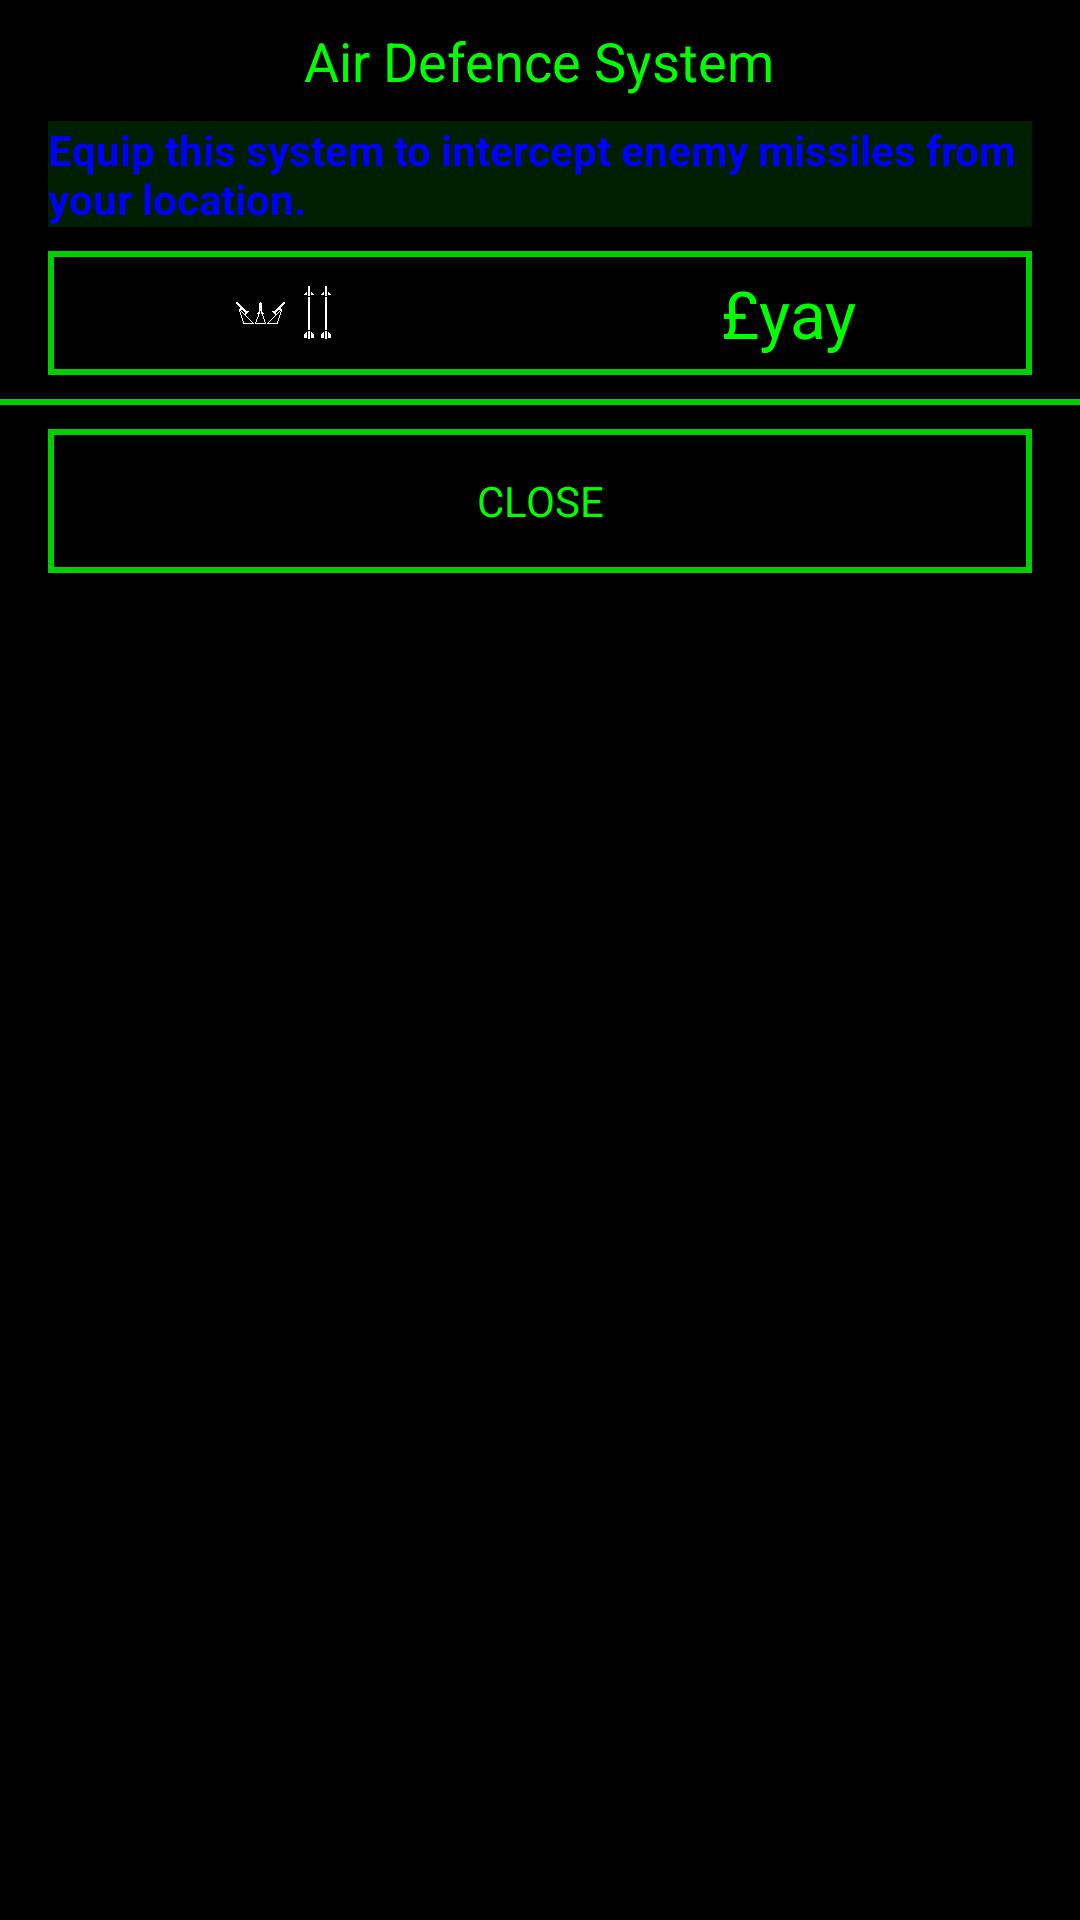

Where icons sit on this 1080 × 1920 app screen, as (x1, y1, x2, y2):
build sam site: (236, 286, 331, 339)
